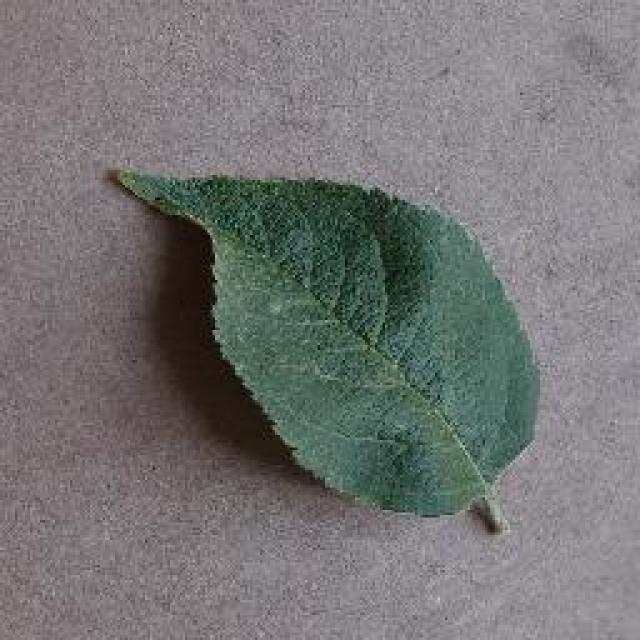apple healthy: (112, 165, 542, 535)
